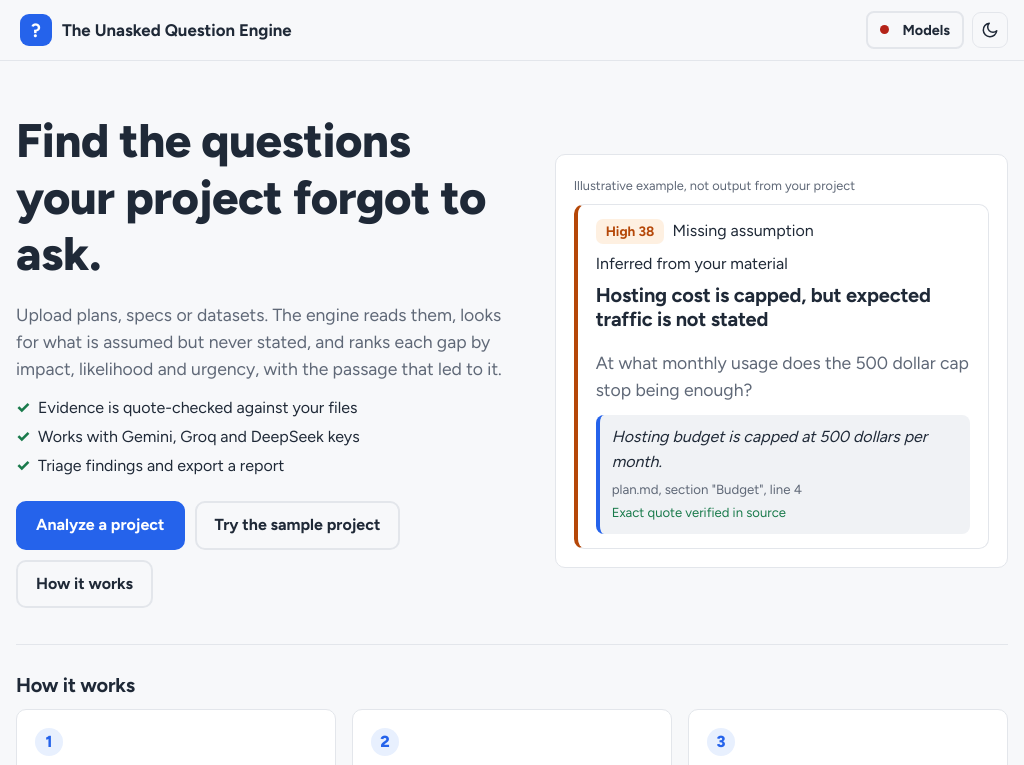
Test case: App › shows an error and returns to the workspace if the sample cannot load
Step 1. Click the button "Try the sample project" → (297, 525), box [194, 501, 400, 550]
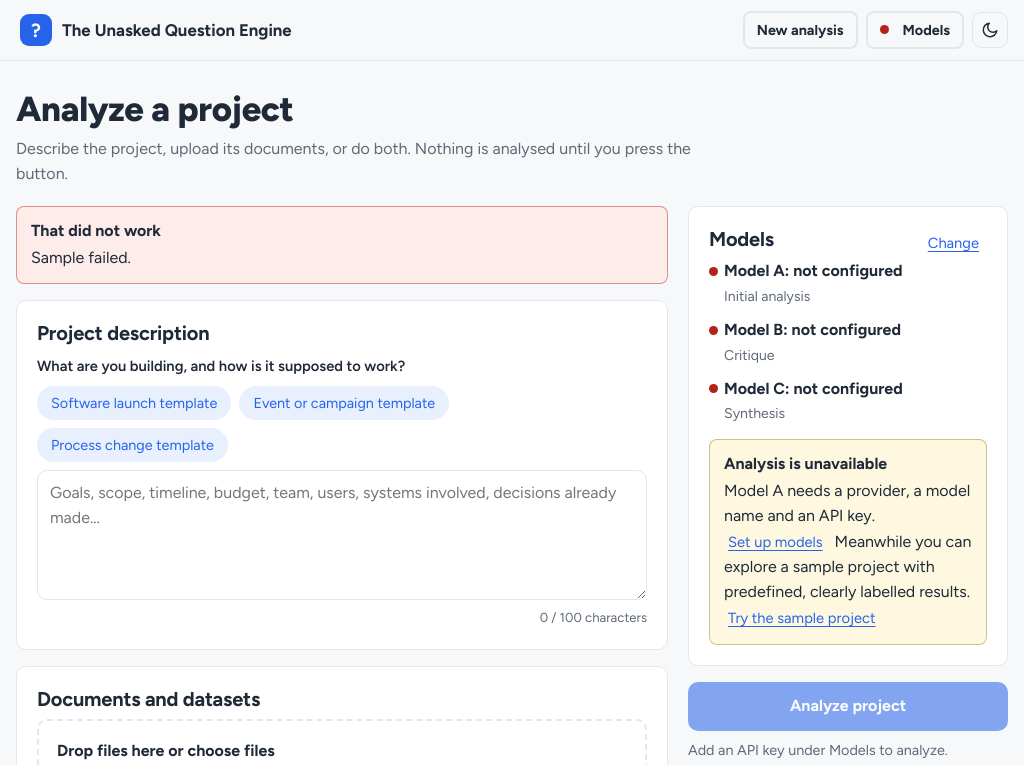
Result: the text "Sample failed." is shown at [31, 248, 131, 267]
